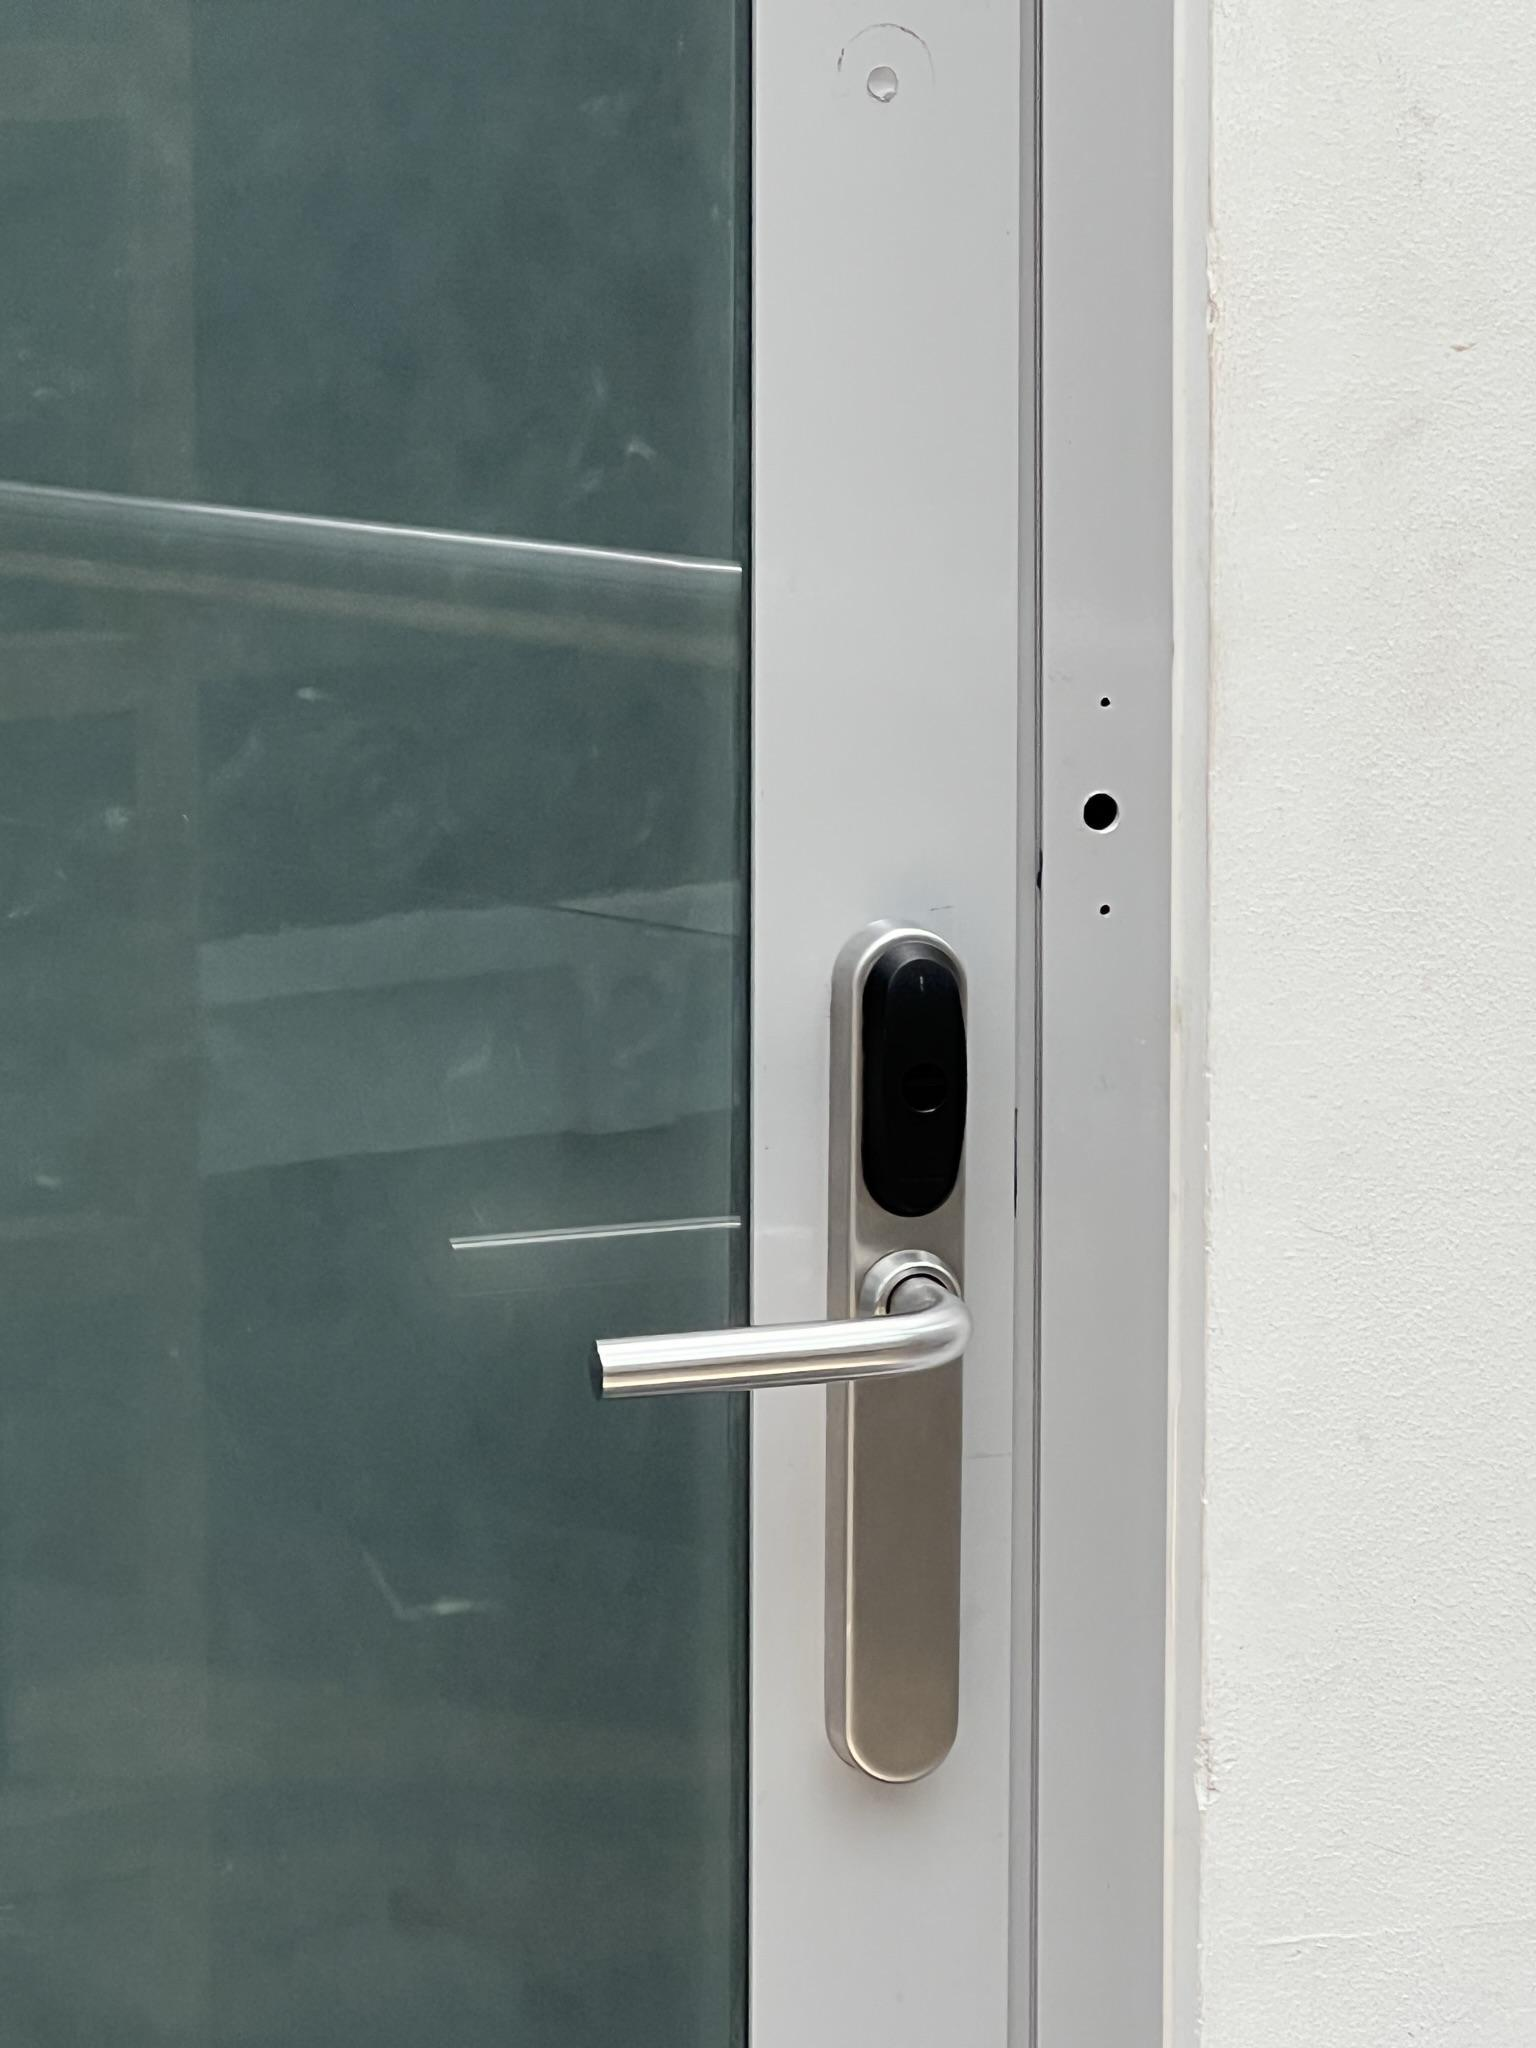door: (16, 21, 1149, 2048)
handle: (561, 901, 1008, 1801)
